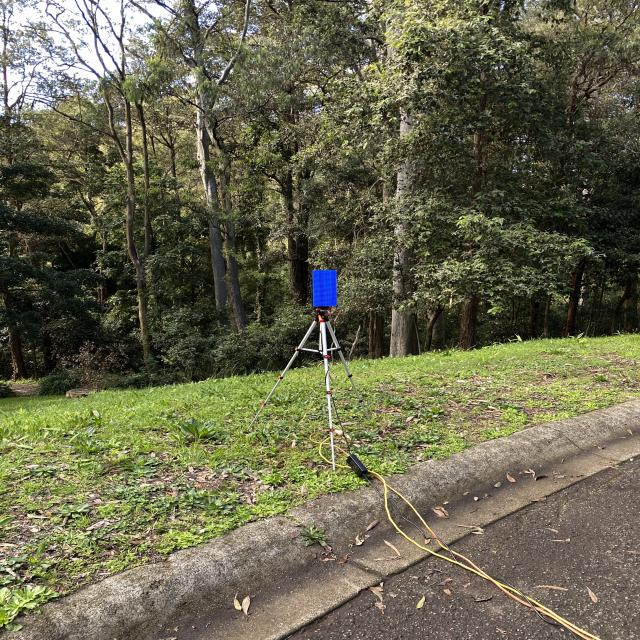matrix: (312, 269, 339, 307)
